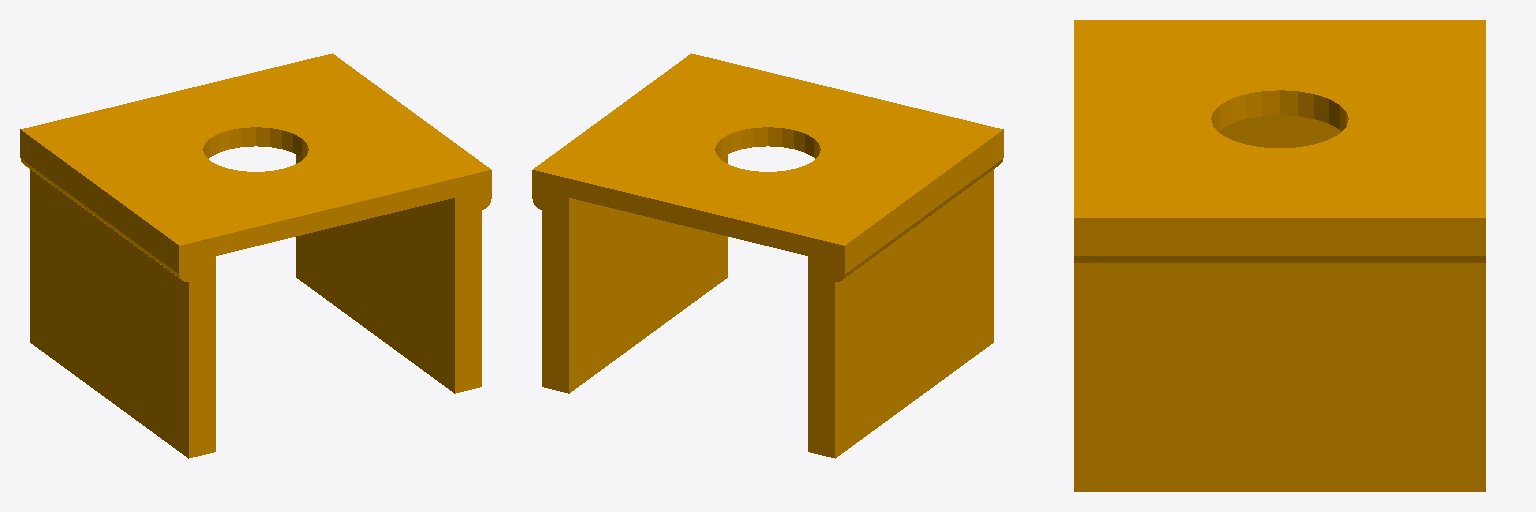
robot.urdf — 00271_socket:
<?xml version="1.0"?>
<robot name="00271_socket">
	<link name="00271_socket">
		<visual>
			<geometry>
				<mesh filename="../mesh/00271/asset_socket.obj"/>
			</geometry>
		</visual>
		<collision>
			<geometry>
				<mesh filename="../mesh/00271/asset_socket.obj"/>
			</geometry>
			<sdf resolution="256"/>
		</collision>
	</link>
</robot>

--- Facts derived from the render (not from the file) ---
3 views of the same robot in one strip: view 1: azimuth 30°, elevation 25°; view 2: azimuth 150°, elevation 25°; view 3: azimuth 270°, elevation 25° (orthographic).
Robot: 00271_socket — 1 links, 0 joints (none); root link 00271_socket; default pose: all joints at 0.
Visible links, largest first — view 1: 00271_socket; view 2: 00271_socket; view 3: 00271_socket.
Boxes of the visible links, bbox=[...] form: 00271_socket: bbox=[20, 53, 491, 458]; 00271_socket: bbox=[532, 53, 1003, 458]; 00271_socket: bbox=[1074, 20, 1485, 491].
Bounding box of the posed robot: 0.0371 × 0.0327 × 0.0244 m (x, y, z).
1 mesh visuals loaded from 1 distinct referenced files (1 OBJ).
